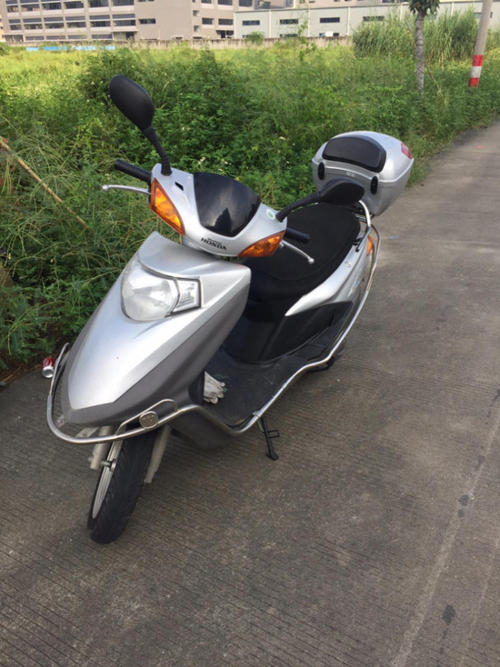motor: (56, 137, 385, 532)
